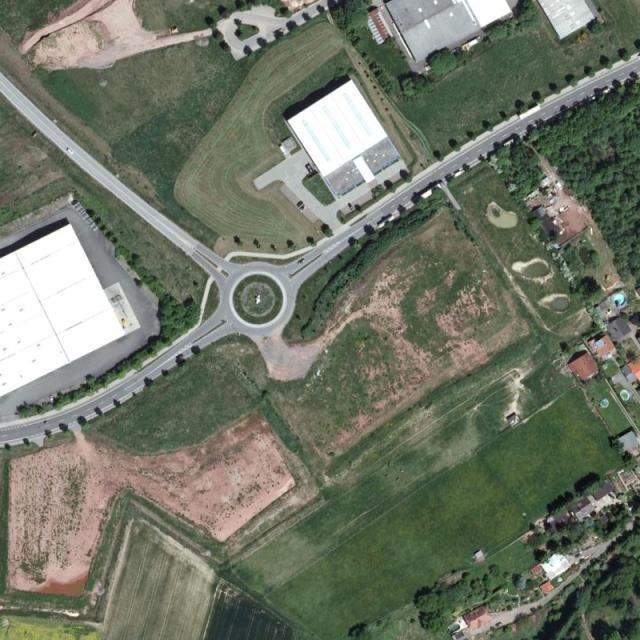vehicle: (298, 258, 306, 266), (348, 204, 356, 212), (299, 206, 307, 213), (296, 201, 304, 208), (50, 395, 54, 404), (494, 622, 502, 626)
